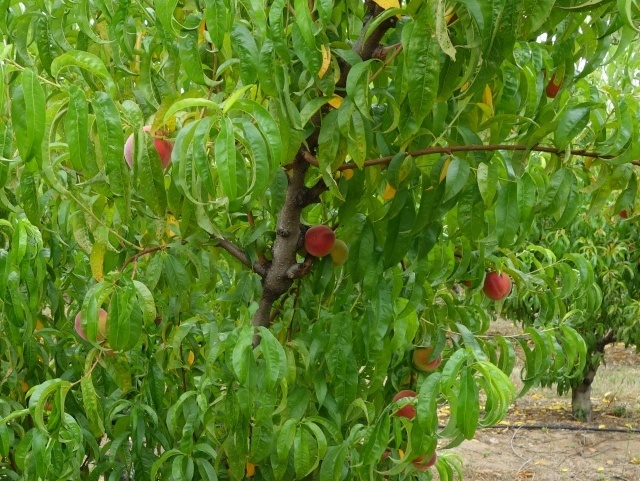peach: (118, 122, 176, 174), (71, 304, 114, 346), (301, 222, 339, 259), (481, 267, 514, 305), (387, 387, 422, 421), (410, 340, 444, 373), (538, 67, 568, 104), (325, 236, 353, 268), (409, 444, 439, 472)
